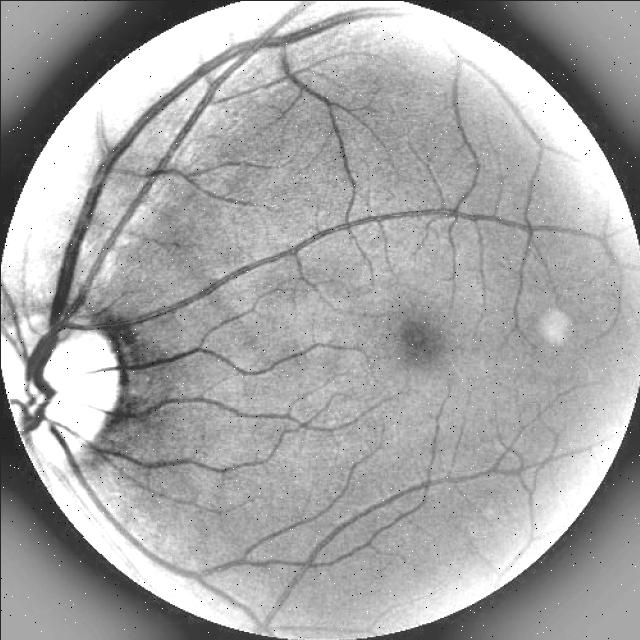Macula: (394, 315, 445, 370)
Nerves: (6, 12, 587, 634)
Optic Disk: (0, 317, 118, 456)
